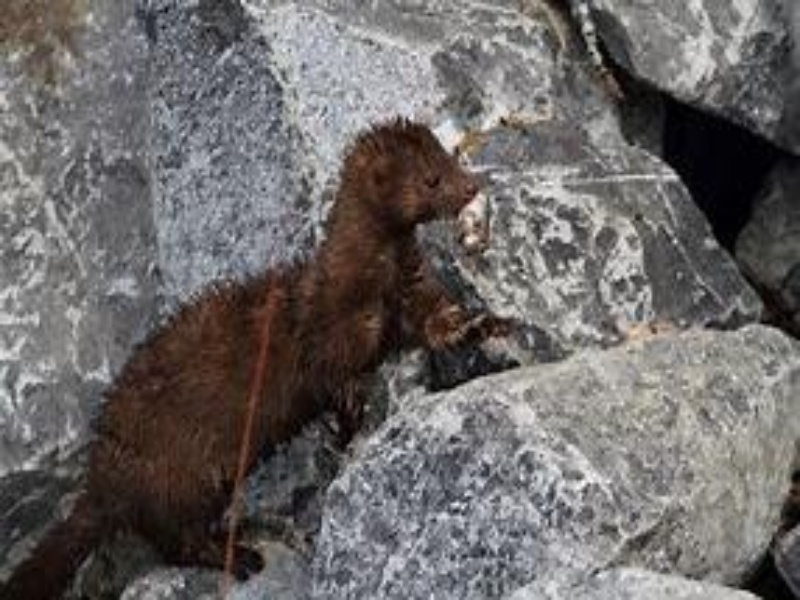minkish: (22, 109, 481, 590)
